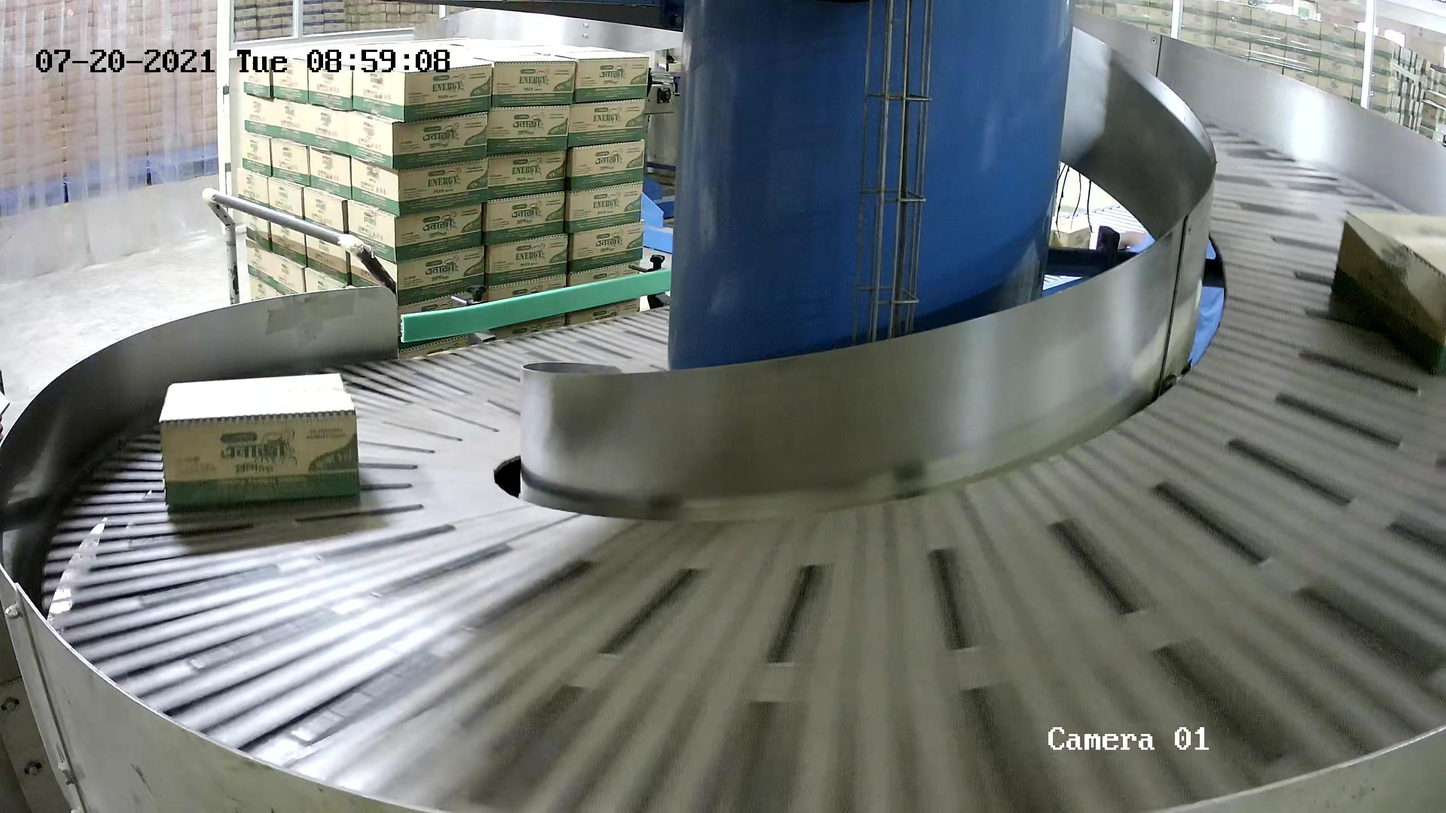Box: (157, 370, 360, 508), (1325, 207, 1446, 378)
